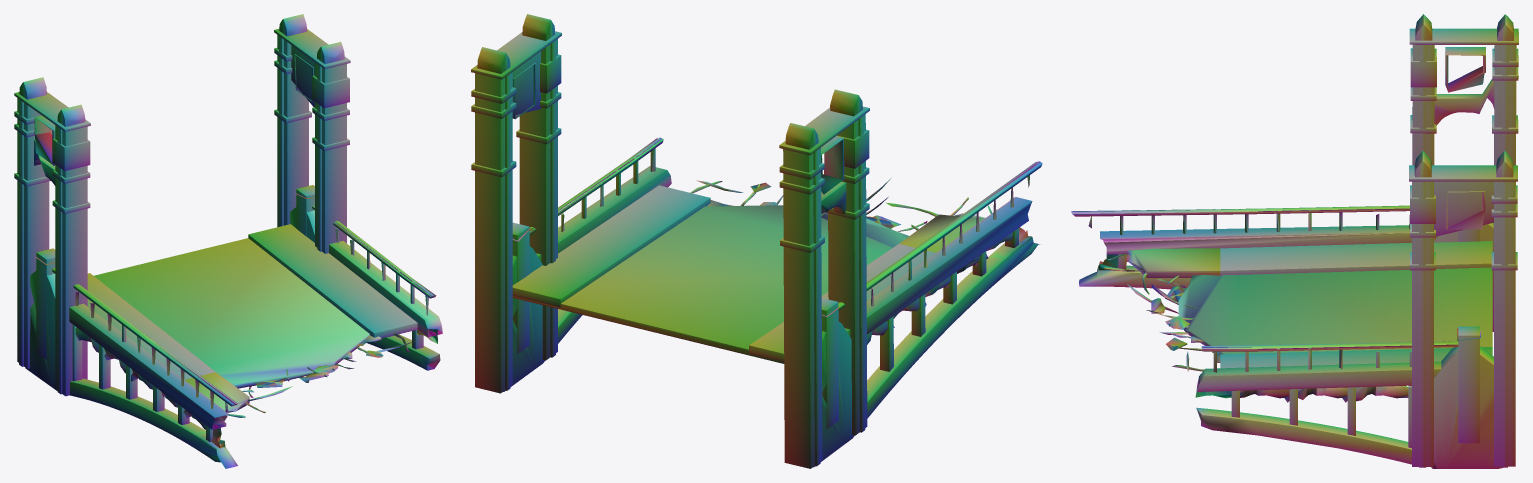
3 views of the same model, side by side, from view 1: azimuth 30°, elevation 25°; view 2: azimuth 150°, elevation 25°; view 3: azimuth 270°, elevation 25° (orthographic). The views are drawn at different scales.
Visible parts, largest first — view 1: alt3.367; view 2: alt3.367; view 3: alt3.367.
Part boxes in pixels (left/top/right/bottom): alt3.367: left=14, top=14, right=442, bottom=468; alt3.367: left=471, top=14, right=1042, bottom=468; alt3.367: left=1071, top=14, right=1518, bottom=468.
Size of the model in its own units: 0.3978 by 0.3806 by 0.5.
